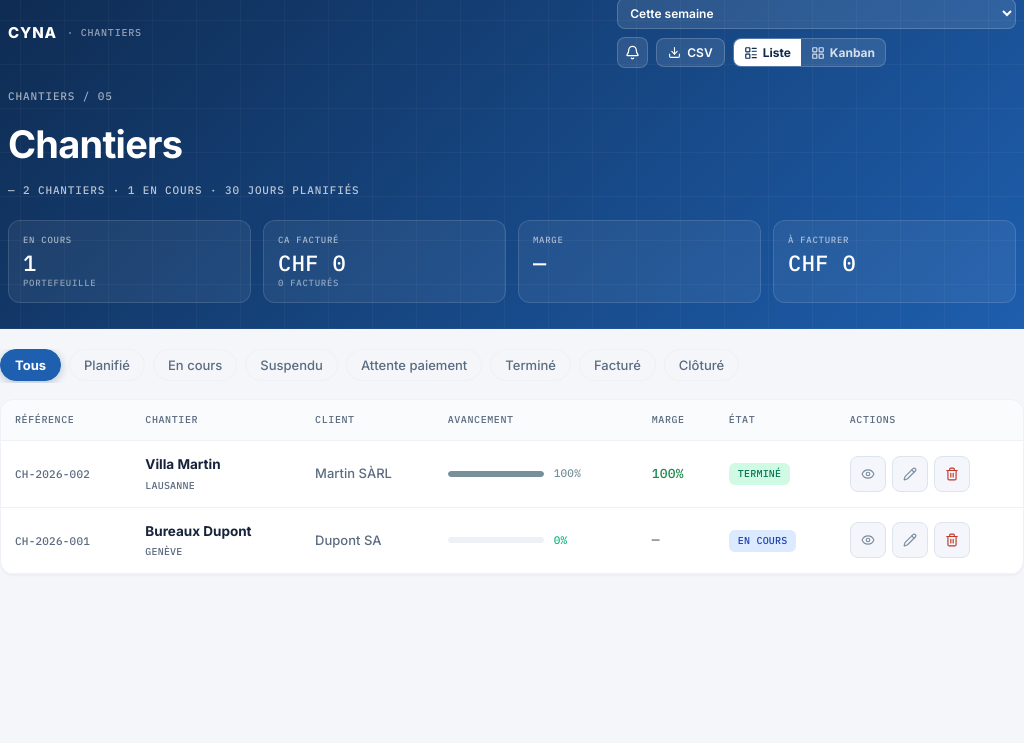
ChantiersPage — édition › clic Modifier → ouvre le form pré-rempli "Modifier le chantier"
The width and height of the screenshot is (1024, 743).
Click the button titled "Modifier" in the row of "CH-2026-001": (910,540) left=892, top=522, right=928, bottom=558
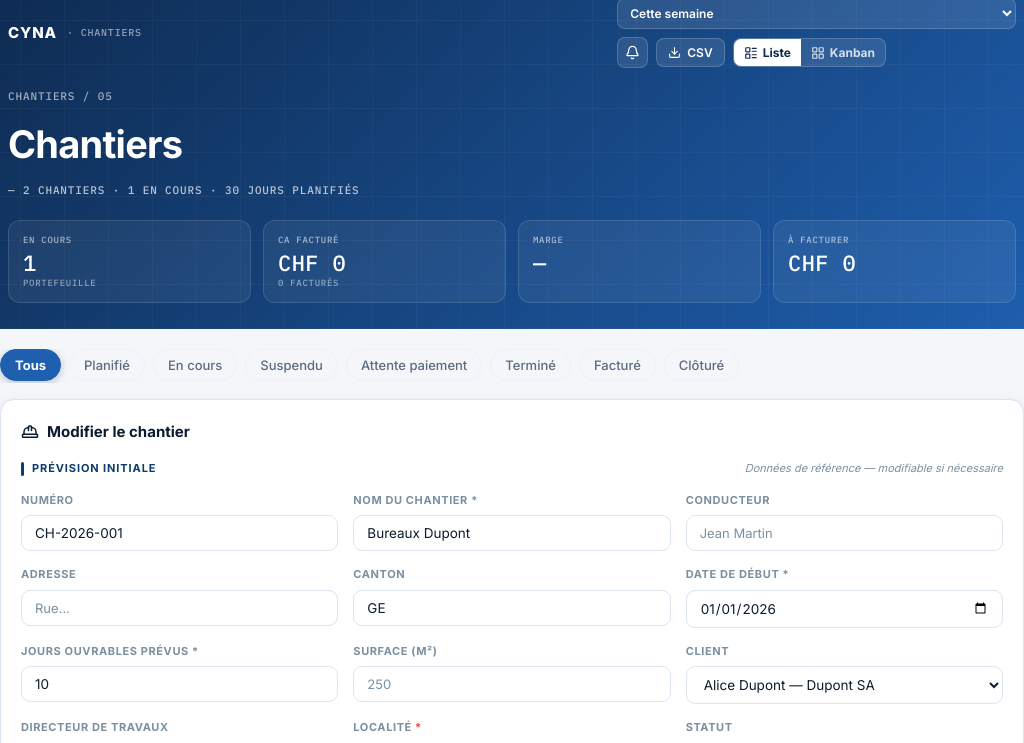
Check: the text "Modifier le chantier" is shown, box left=21, top=422, right=190, bottom=441
Check: the field showing "Bureaux Dupont" below "Nom du chantier *" is shown, box left=353, top=515, right=671, bottom=551
Check: the field showing "GE" below "Canton" is shown, box left=353, top=590, right=671, bottom=626
